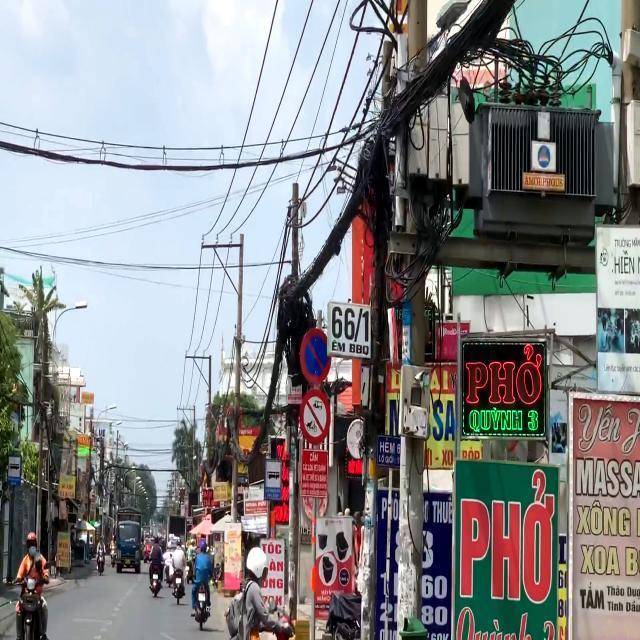131a-cam-do-xe: (300, 328, 332, 384)
